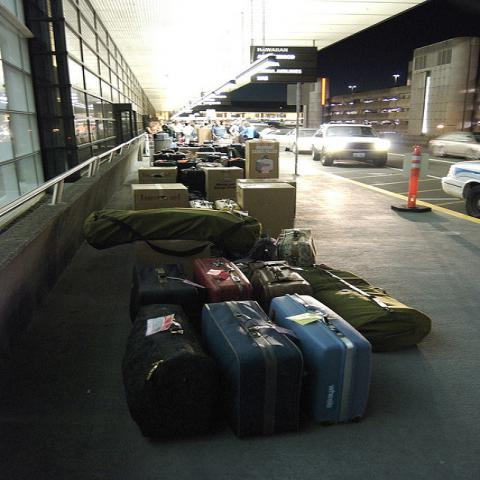car: (308, 124, 388, 166), (441, 159, 479, 220), (429, 132, 479, 159), (281, 129, 316, 154), (250, 122, 269, 136), (265, 122, 283, 129), (270, 129, 290, 135), (380, 132, 396, 134)
